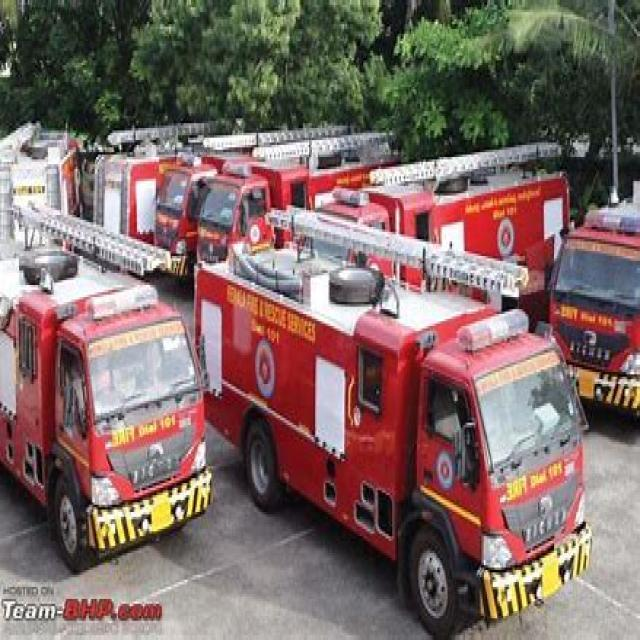Fire-engine: (192, 198, 592, 638), (0, 243, 213, 572)
